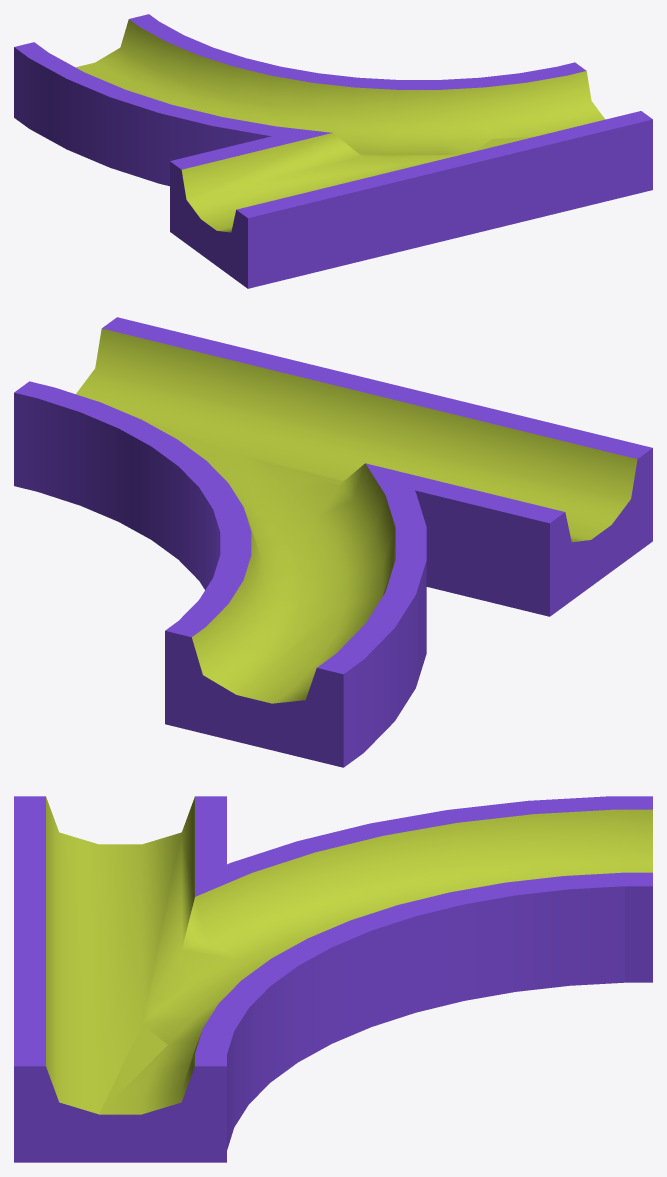
File: split_large_right-col.dae
The picture shows the model from 3 angles, top to bottom: view 1: azimuth 30°, elevation 25°; view 2: azimuth 150°, elevation 25°; view 3: azimuth 270°, elevation 25°; orthographic projection. The views are drawn at different scales.
Parts seen in each view (by area): view 1: split_large_right-col; view 2: split_large_right-col; view 3: split_large_right-col.
Part boxes in pixels (x1=…): split_large_right-col: x1=14, y1=14, x2=652, y2=288; split_large_right-col: x1=14, y1=317, x2=652, y2=767; split_large_right-col: x1=14, y1=796, x2=652, y2=1162.
Bounding box in the file's own units: 3 × 3 × 0.5.
